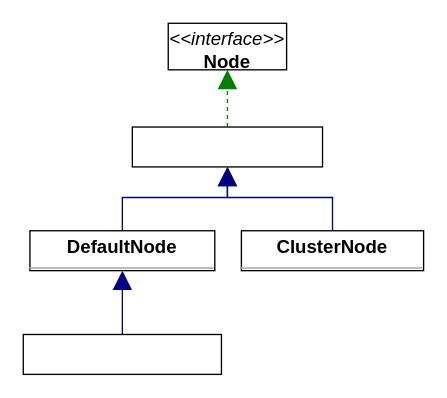
This 447x398 diagram has some shape labels left out. The centre of each missing label's shape, as x and y in pixels:
"EntranceNode" belongs at pixel 121 353.
"StatisticNode" belongs at pixel 227 146.
